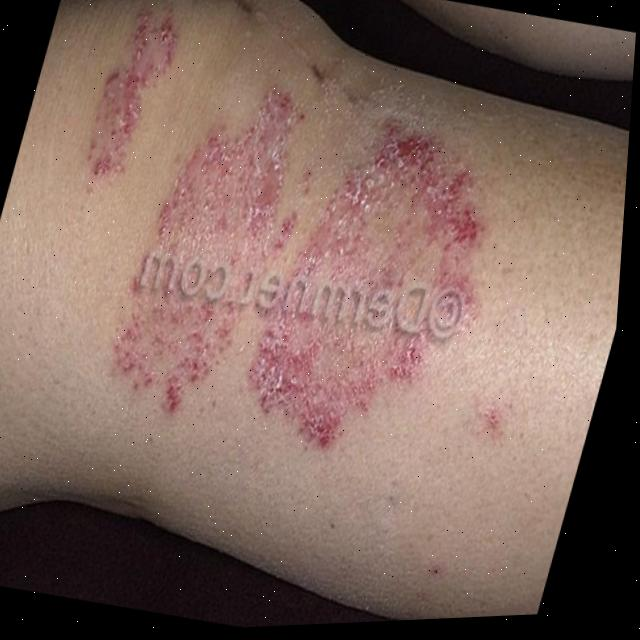Eczema: (60, 91, 511, 528), (79, 2, 185, 164)
